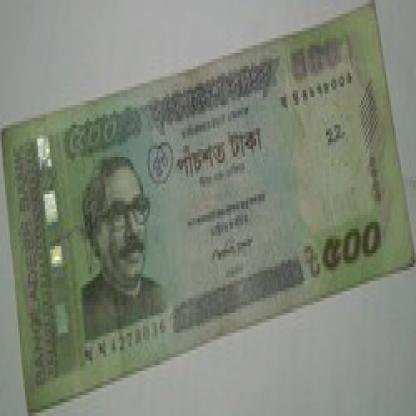500 taka: (170, 125, 274, 184), (60, 114, 140, 163)
currency: (5, 17, 414, 416)
